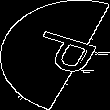P_SE: (12, 28, 98, 82)
